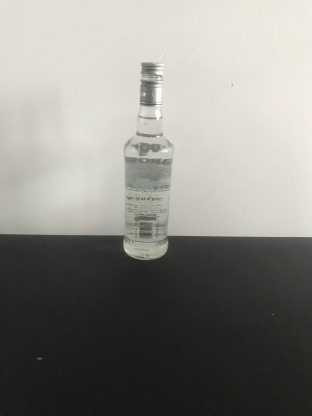nakretka: (138, 60, 165, 106)
